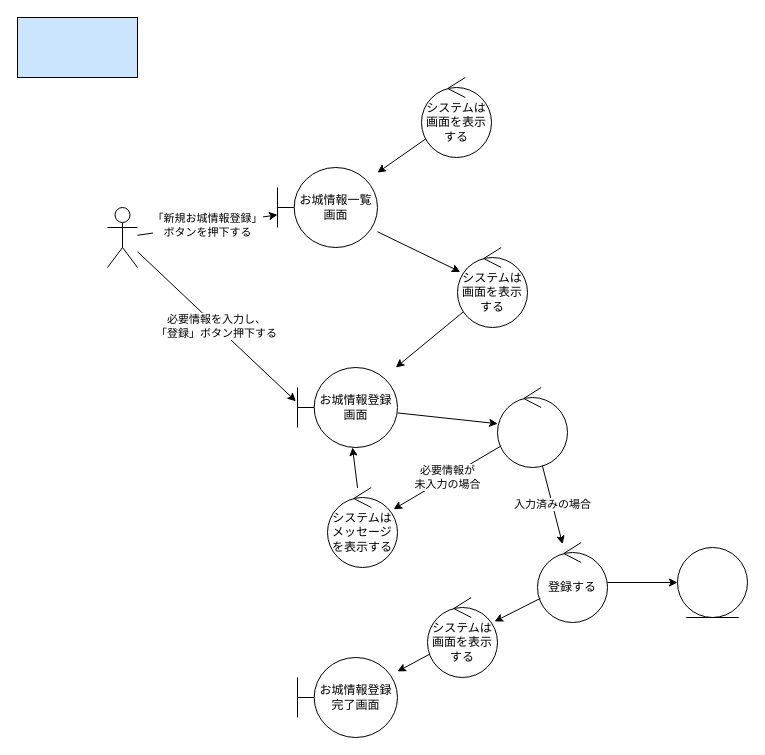
Image size: 765x755. Some labels were removed from this diagram. The shapes that lost their labels are listed below. From the top down, each one's centre as x and y in pixels, then its label:
At pixel 77 47: "運営が お城情報を 登録する".
At pixel 122 237: "運営".
At pixel 532 427: "システムは入力内容を確認する".
At pixel 712 582: "お城情報".
